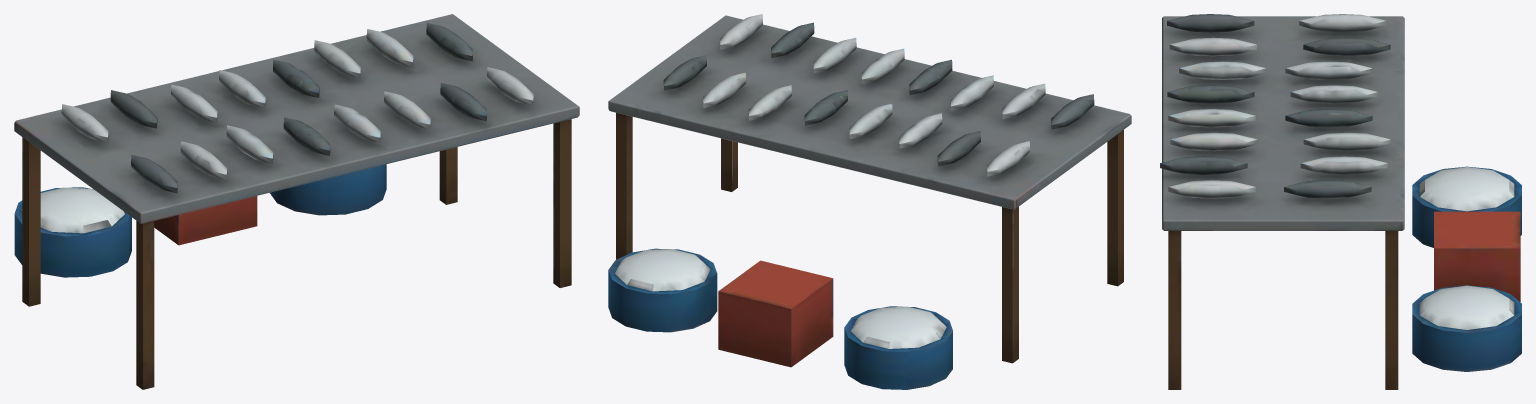
The model's file is fish_table.glb.
The picture shows the model from 3 angles, left to right: view 1: azimuth 30°, elevation 25°; view 2: azimuth 150°, elevation 25°; view 3: azimuth 270°, elevation 25°; orthographic projection. The views are drawn at different scales.
Parts seen in each view (by area): view 1: body; view 2: body; view 3: body.
Boxes of the visible parts, box(x1,y1,x2,y2) form: body: box(14, 14, 579, 389); body: box(608, 14, 1131, 389); body: box(1160, 14, 1521, 389).
Bounding box in the file's own units: 1.9 × 0.824 × 1.42.
1 material, 1 textured.
